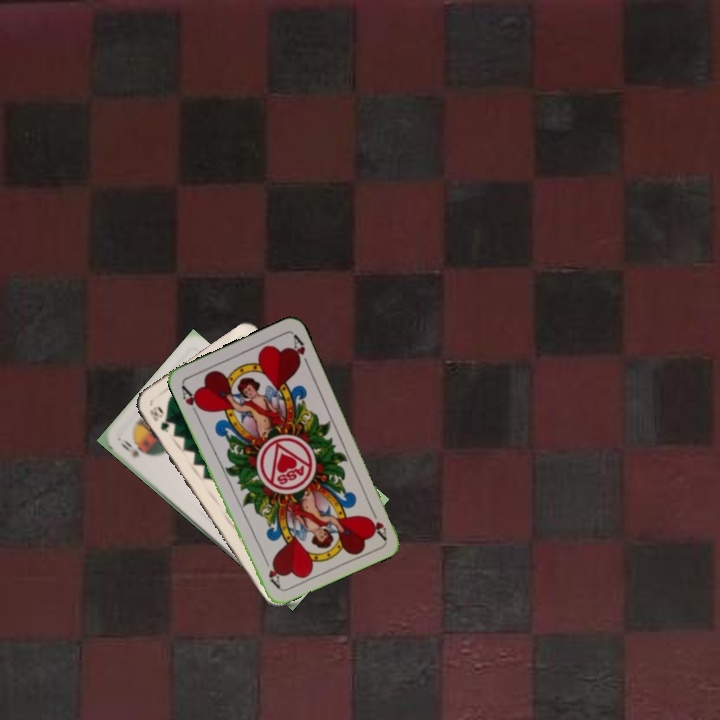G10: (146, 402, 172, 435)
HA: (177, 380, 205, 419), (364, 503, 389, 542)
SO: (116, 435, 142, 460)
